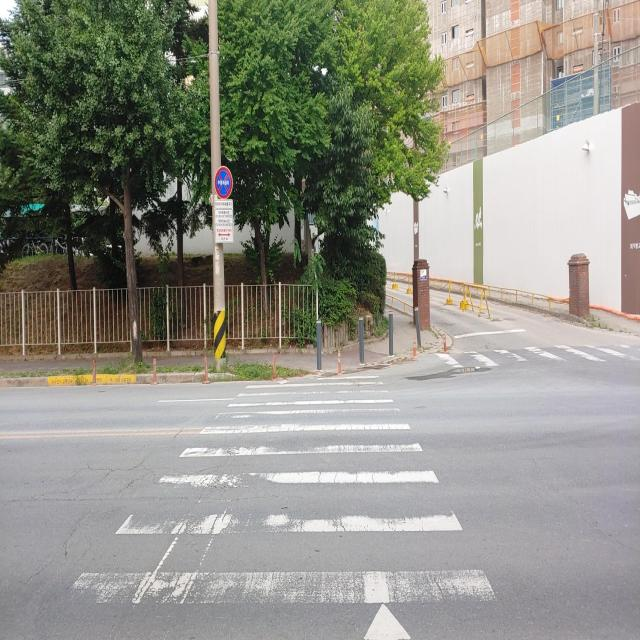횡단보도: (57, 372, 498, 640), (439, 344, 640, 366)
